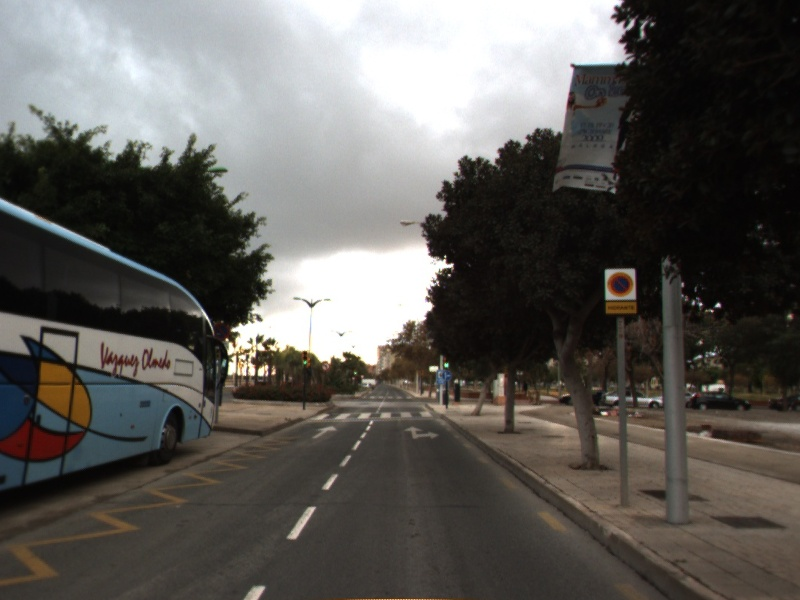STRAIGHT: (310, 424, 340, 440)
STRAIGHT_RIGHT: (402, 424, 442, 441)
